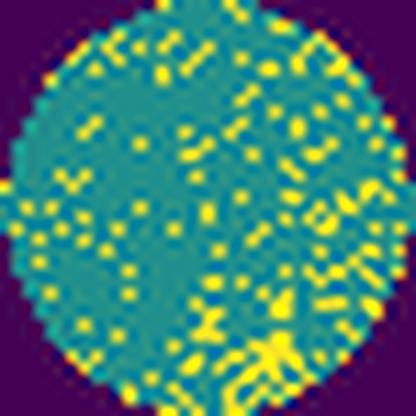Loc: (215, 330, 314, 416), (189, 301, 229, 340)
